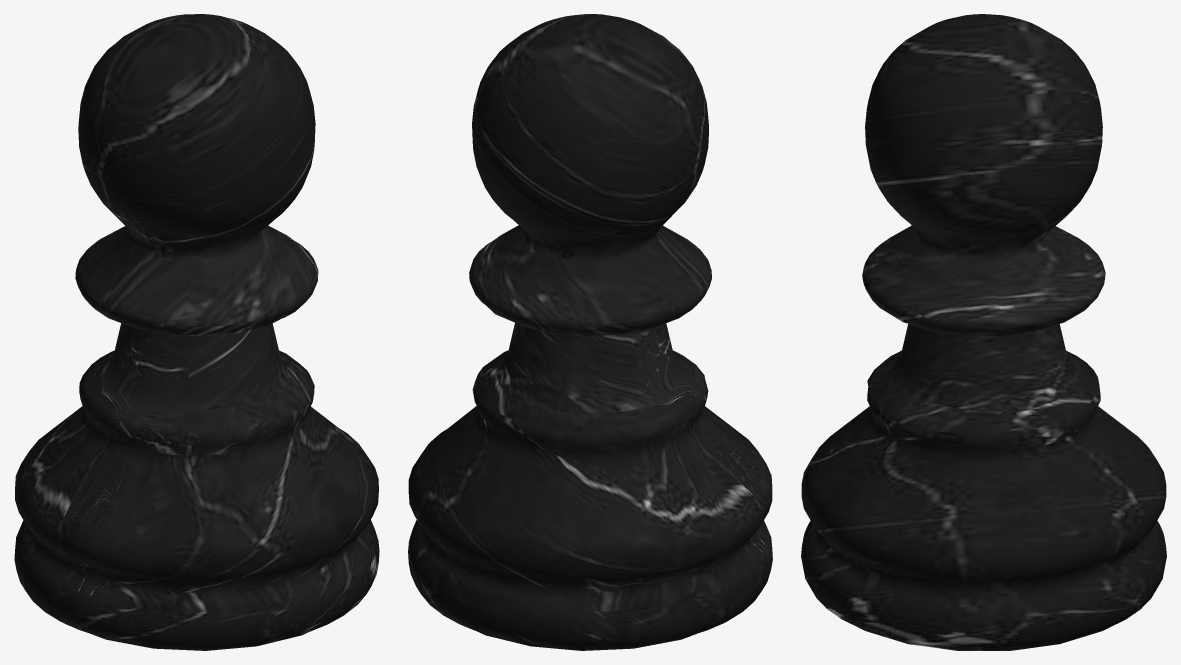
Rendered from black_pawn.glb.
3 renders of one model, left to right at view 1: azimuth 30°, elevation 25°; view 2: azimuth 150°, elevation 25°; view 3: azimuth 270°, elevation 25°, orthographic.
Visible parts, largest first — view 1: Circle.012; view 2: Circle.012; view 3: Circle.012.
Part boxes in pixels (x1,y1,x2,y2): Circle.012: (14,14,379,650); Circle.012: (408,14,772,650); Circle.012: (801,14,1166,650).
Bounding box in the file's own units: 1.14 × 1.91 × 1.14.
Materials: 1 (1 with a texture image).
